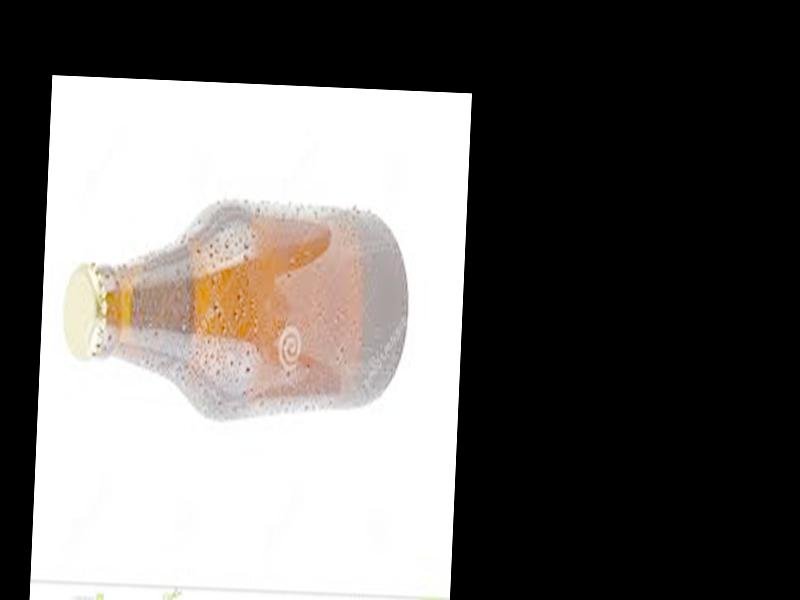Beer: (60, 192, 411, 427)
